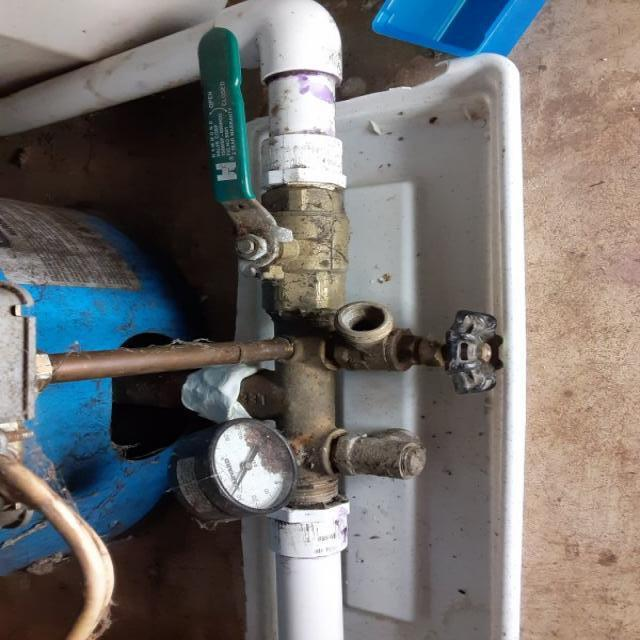opened_valve: (193, 23, 355, 324)
